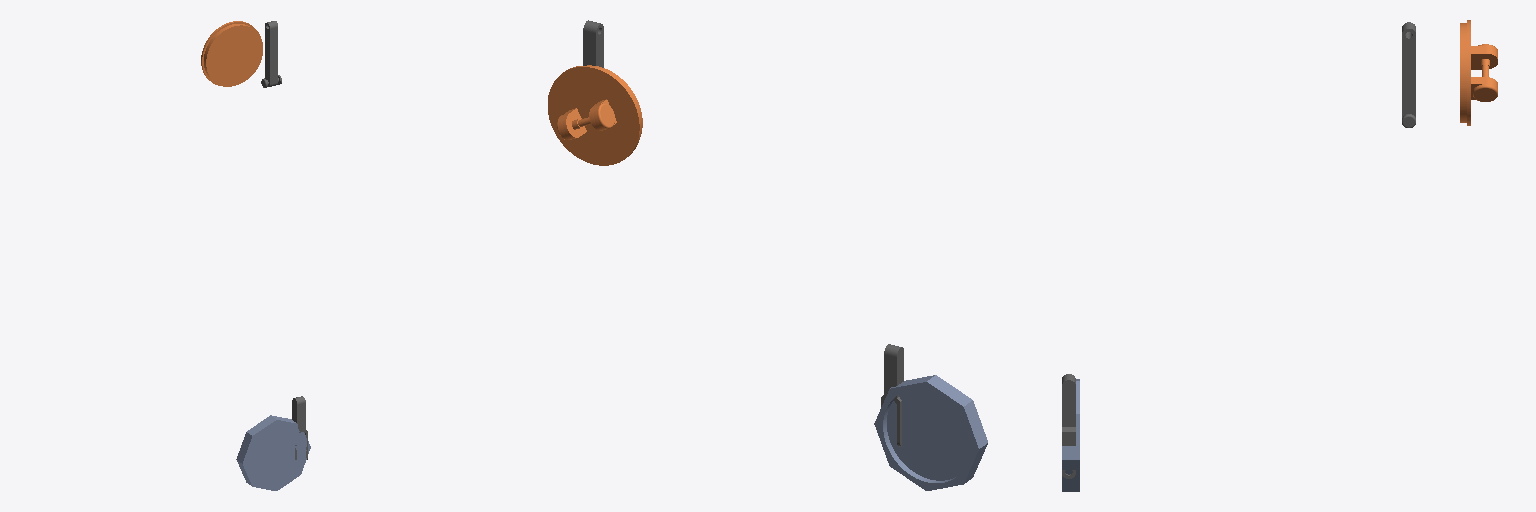
The robot description file, URDF, robot "2AxisArm":
<?xml version="1.0"?>
<robot name="2AxisArm">

  <!-- Materials -->
  <material name="base_gray">
    <color rgba="0.55 0.60 0.70 1"/>
  </material>

  <material name="copper">
    <color rgba="0.90 0.55 0.32 1"/>
  </material>

  <material name="arm_gray">
    <color rgba="0.45 0.45 0.45 1"/>
  </material>


  <!-- ===================== -->
  <!-- Links -->
  <!-- ===================== -->

  <link name="base_link">
    <visual>
      <geometry>
        <mesh filename="STLs/ActualBase.STL" scale="0.001 0.001 0.001"/>
      </geometry>
      <material name="base_gray"/>
    </visual>

    <collision>
      <geometry>
        <mesh filename="STLs/ActualBase.STL" scale="0.001 0.001 0.001"/>
      </geometry>
    </collision>

    <inertial>
      <mass value="2.0"/>
      <origin xyz="0 0 0" rpy="0 0 0"/>
      <inertia ixx="0.01" ixy="0" ixz="0" iyy="0.01" iyz="0" izz="0.01"/>
    </inertial>
  </link>


  <link name="yaw_link">
    <visual>
      <geometry>
        <mesh filename="STLs/Yaw.STL" scale="0.001 0.001 0.001"/>
      </geometry>
      <material name="copper"/>
    </visual>

    <collision>
      <geometry>
        <mesh filename="STLs/Yaw.STL" scale="0.001 0.001 0.001"/>
      </geometry>
    </collision>

    <inertial>
      <mass value="1.0"/>
      <origin xyz="0 0 0" rpy="0 0 0"/>
      <inertia ixx="0.005" ixy="0" ixz="0" iyy="0.005" iyz="0" izz="0.005"/>
    </inertial>
  </link>


  <link name="lower_arm_link">
    <visual>
      <geometry>
        <mesh filename="STLs/LowerArm.STL" scale="0.001 0.001 0.001"/>
      </geometry>
      <material name="arm_gray"/>
    </visual>

    <collision>
      <geometry>
        <mesh filename="STLs/LowerArm.STL" scale="0.001 0.001 0.001"/>
      </geometry>
    </collision>

    <inertial>
      <mass value="0.7"/>
      <origin xyz="0.125 0 0" rpy="0 0 0"/>
      <inertia ixx="0.003" ixy="0" ixz="0" iyy="0.003" iyz="0" izz="0.003"/>
    </inertial>
  </link>


  <link name="upper_arm_link">
    <visual>
      <geometry>
        <mesh filename="STLs/UpperArm.STL" scale="0.001 0.001 0.001"/>
      </geometry>
      <material name="arm_gray"/>
    </visual>

    <collision>
      <geometry>
        <mesh filename="STLs/UpperArm.STL" scale="0.001 0.001 0.001"/>
      </geometry>
    </collision>

    <inertial>
      <mass value="0.5"/>
      <origin xyz="0.135 0 0" rpy="0 0 0"/>
      <inertia ixx="0.002" ixy="0" ixz="0" iyy="0.002" iyz="0" izz="0.002"/>
    </inertial>
  </link>


  <!-- Empty target point at the end of the upper arm -->
  <link name="tool0"/>


  <!-- ===================== -->
  <!-- Joints -->
  <!-- ===================== -->

  <!-- Base yaw: true base -> copper rotating base -->
  <joint name="joint0_yaw" type="revolute">
    <parent link="base_link"/>
    <child link="yaw_link"/>
    <origin xyz="0 0 0" rpy="0 0 0"/>
    <axis xyz="0 0 1"/>
    <limit lower="-3.14159" upper="3.14159" effort="10" velocity="1"/>
  </joint>


  <!-- Shoulder pitch: copper base -> lower arm -->
  <joint name="joint1_shoulder" type="revolute">
    <parent link="yaw_link"/>
    <child link="lower_arm_link"/>
    <origin xyz="0 0 0.100" rpy="0 0 0"/>
    <axis xyz="0 1 0"/>
    <limit lower="-1.5708" upper="1.5708" effort="10" velocity="1"/>
  </joint>


  <!-- Elbow pitch: lower arm -> upper arm -->
  <joint name="joint2_elbow" type="revolute">
    <parent link="lower_arm_link"/>
    <child link="upper_arm_link"/>
    <origin xyz="0.250 0 0" rpy="0 0 0"/>
    <axis xyz="0 1 0"/>
    <limit lower="-2.2" upper="2.2" effort="10" velocity="1"/>
  </joint>


  <!-- Temporary tool/end point: upper arm -> endpoint -->
  <joint name="fixed_tool0" type="fixed">
    <parent link="upper_arm_link"/>
    <child link="tool0"/>
    <origin xyz="0.270 0 0" rpy="0 0 0"/>
  </joint>

</robot>

--- Render facts (derived) ---
3 views of the same robot in one strip: view 1: azimuth 30°, elevation 25°; view 2: azimuth 150°, elevation 25°; view 3: azimuth 270°, elevation 25° (orthographic).
Robot: 2AxisArm — 5 links, 4 joints (3 revolute, 1 fixed); root link base_link; default pose: every joint at zero.
Links seen in each view (by area): view 1: base_link, yaw_link, lower_arm_link; view 2: base_link, yaw_link, upper_arm_link, lower_arm_link; view 3: yaw_link, lower_arm_link, upper_arm_link, base_link.
Link boxes in pixels (left/top/right/bottom): base_link: left=236, top=415, right=310, bottom=490; yaw_link: left=201, top=21, right=262, bottom=86; lower_arm_link: left=261, top=21, right=281, bottom=87; base_link: left=874, top=375, right=987, bottom=490; yaw_link: left=548, top=65, right=642, bottom=165; upper_arm_link: left=881, top=344, right=903, bottom=446; lower_arm_link: left=583, top=20, right=603, bottom=67; yaw_link: left=1460, top=20, right=1497, bottom=125; lower_arm_link: left=1402, top=22, right=1415, bottom=127; upper_arm_link: left=1062, top=374, right=1075, bottom=478; base_link: left=1062, top=379, right=1079, bottom=491.
Size in the robot's own frame: 0.7267 by 1.18 by 1.62 metres.
4 mesh visuals loaded from 4 distinct referenced files (4 binary STL).
